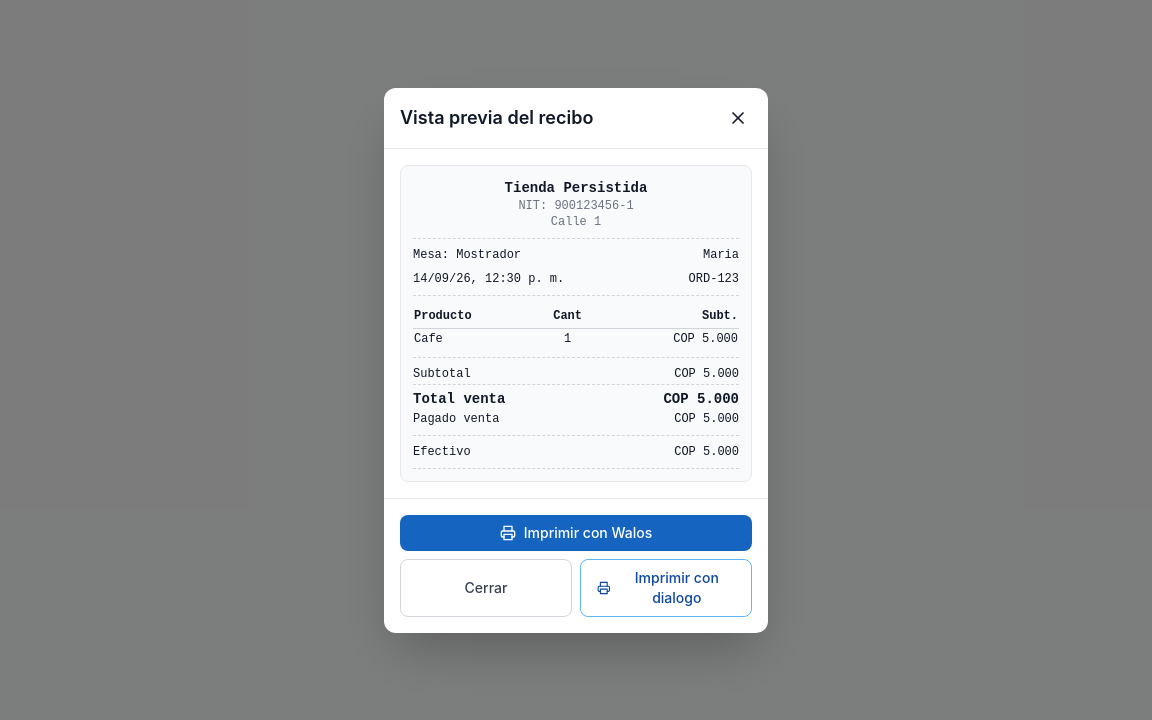
Test: ReceiptPreview impresion H2 › no envia el recibo cuando el agente no esta vinculado
Check: the text "Tienda Persistida" is shown, box [505, 180, 647, 196]
Click the button "Imprimir con Walos" at (576, 532), box [400, 514, 752, 550]
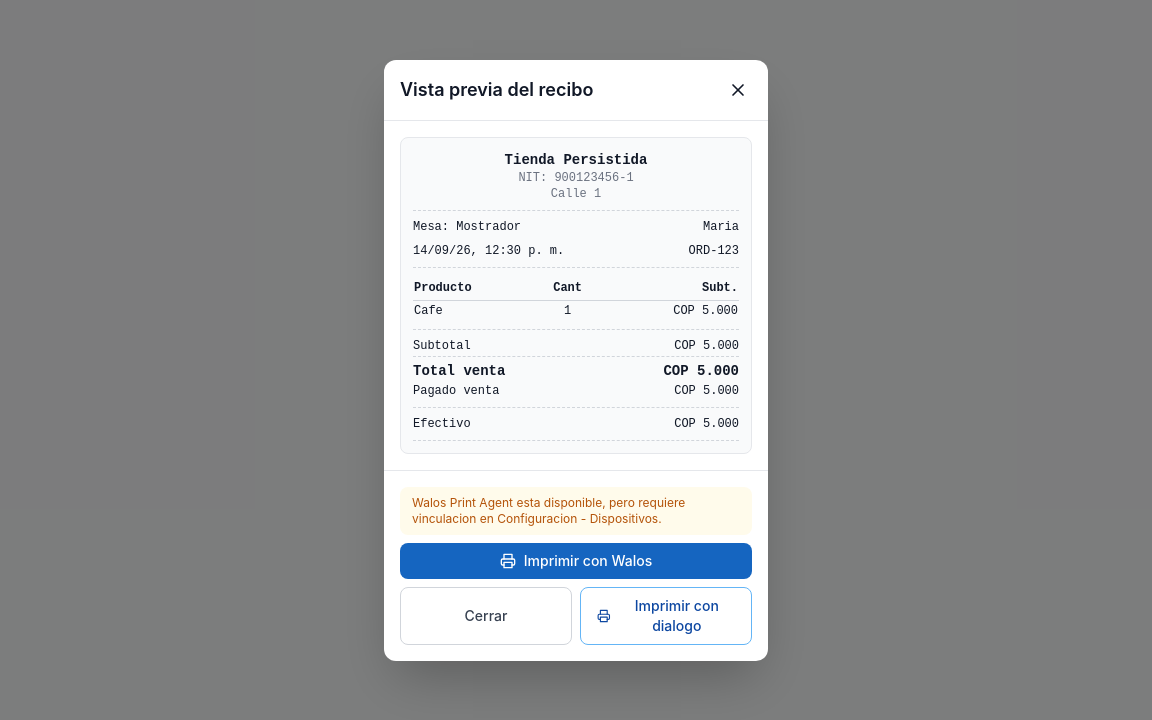
Check: the text "requiere vinculacion" is shown, box [412, 494, 685, 526]
